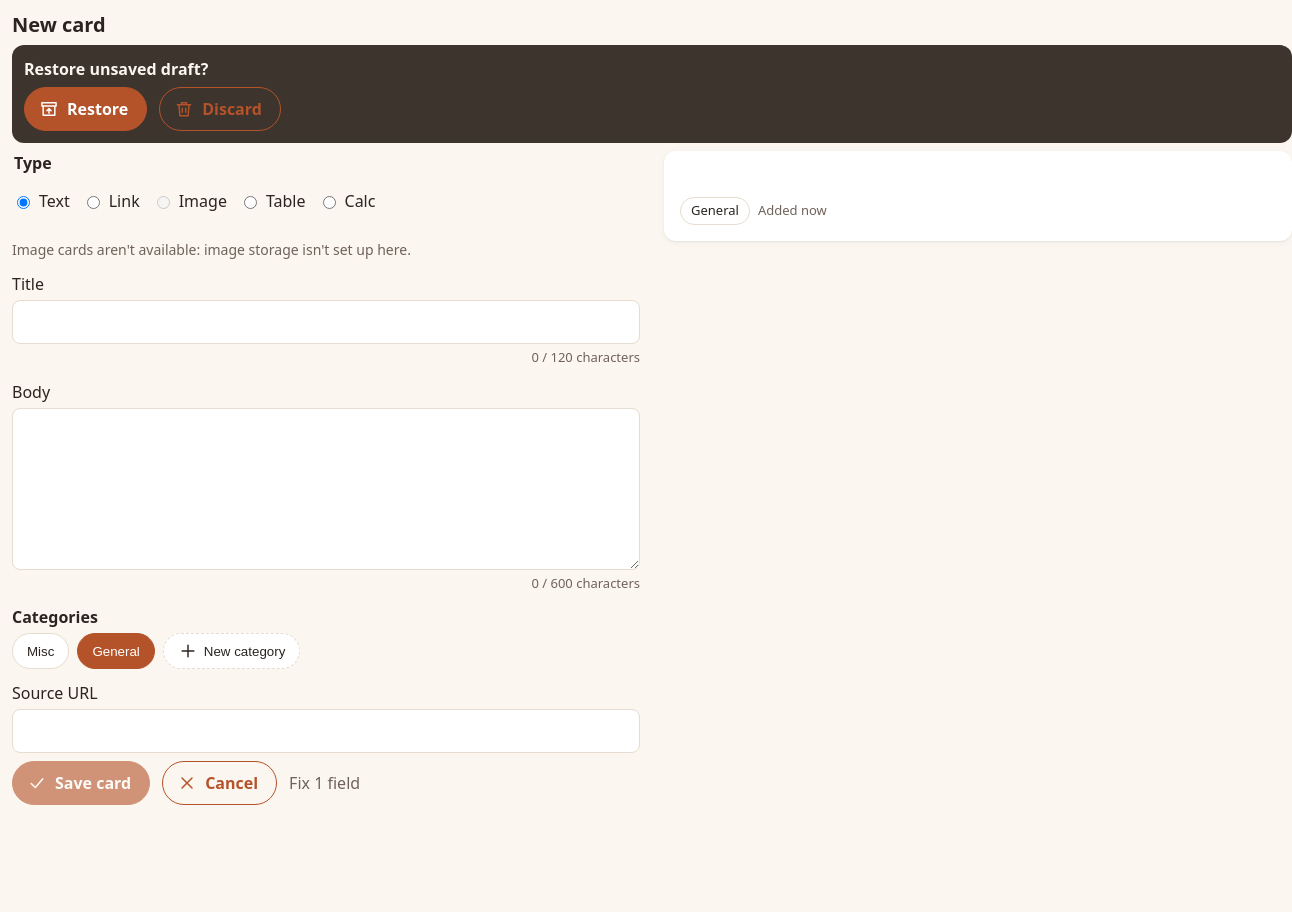
CardEditor: unsaved drafts (D145) › Discard starts fresh and forgets the draft
Click the button "Discard": click(220, 109) [159,87,281,131]
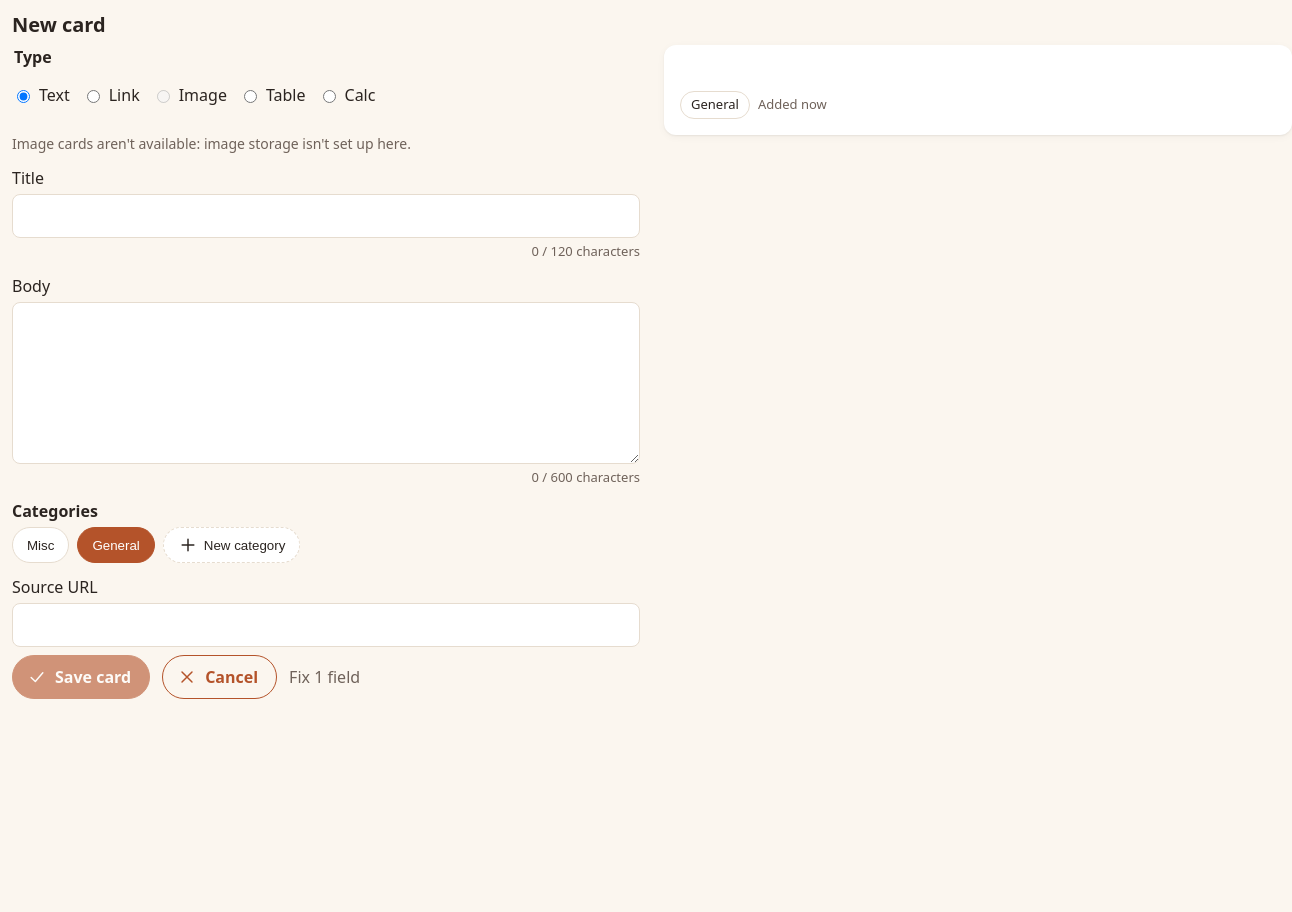
Expected: the field labelled "Title" is empty, [12,194,640,238]
Now the text "Restore" is gone
